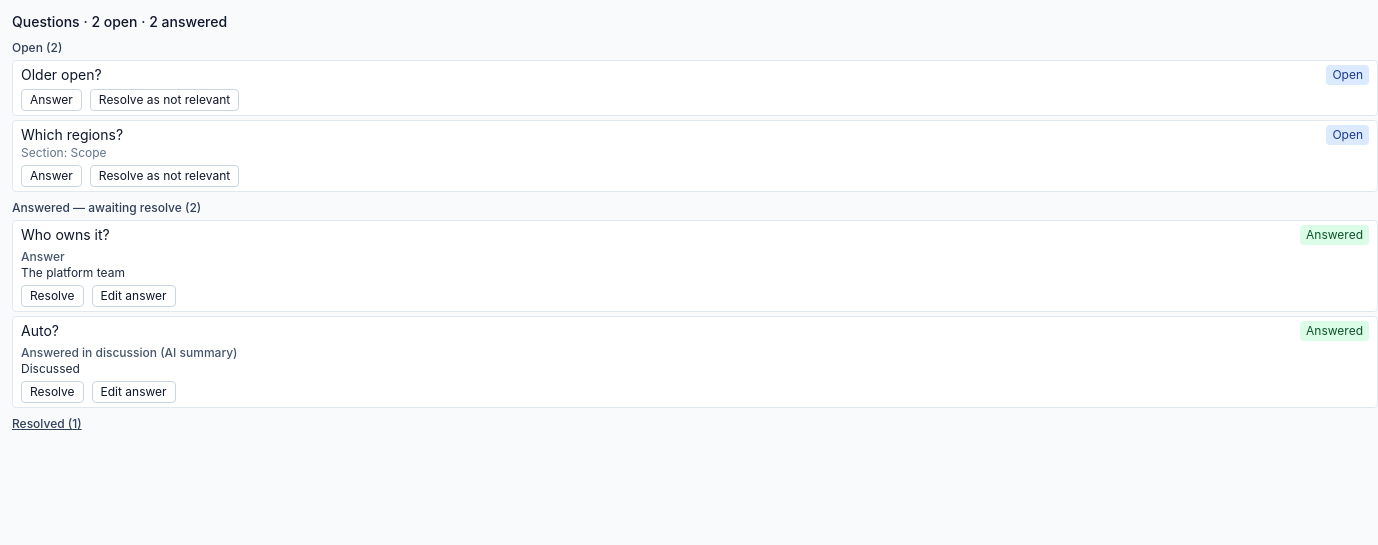
Test: QuestionsList › renders three groups with counts and Resolved collapsed
Expected: the text "Which regions?" is shown, x1=21 y1=125 x2=123 y2=145
Expected: the heading "Questions · 2 open · 2 answered" is shown, x1=12 y1=13 x2=227 y2=30
Click the button "Resolved (1)" at [47, 424], box x1=12 y1=416 x2=82 y2=432
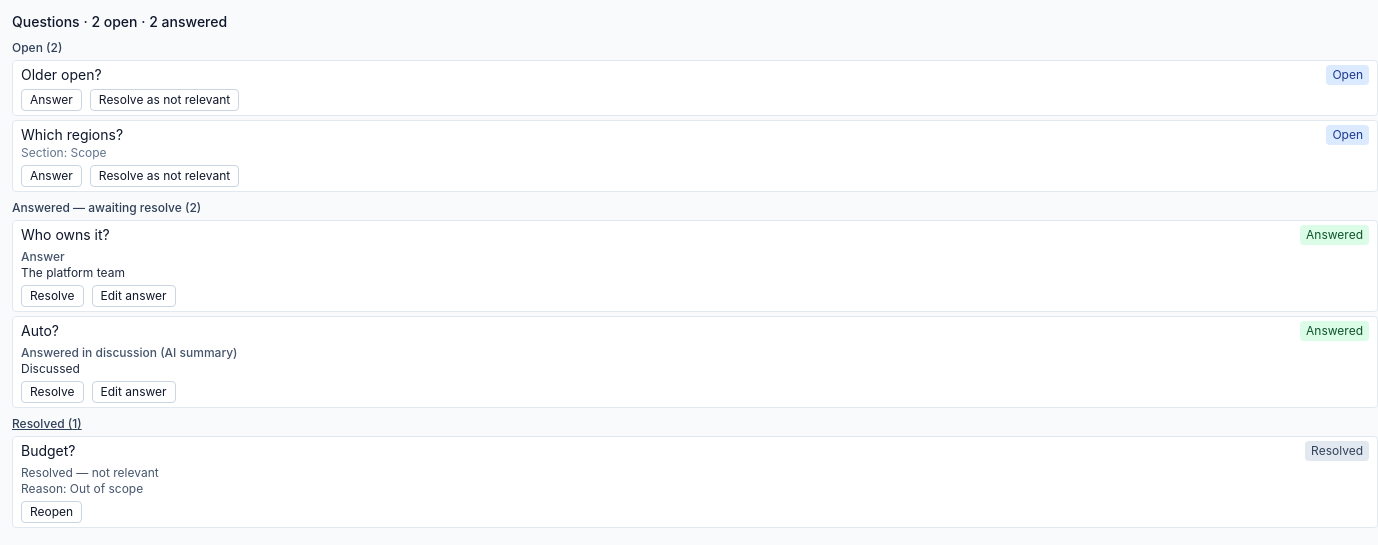
Now the list item "Budget?" shows "Resolved — not relevant", box x1=21 y1=465 x2=159 y2=480
Now the list item "Budget?" shows "Out of scope", box x1=70 y1=481 x2=143 y2=496
Now the button "Reopen" is shown, box x1=21 y1=501 x2=82 y2=523
